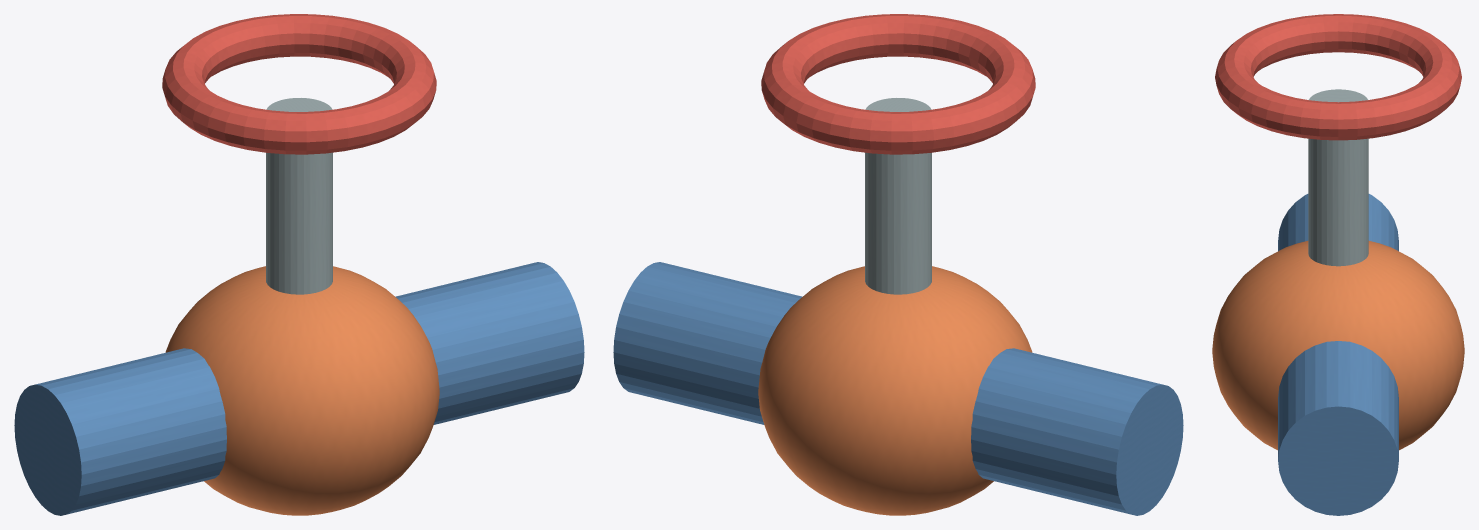
The model's file is valve.glb.
3 renders of one model, left to right at view 1: azimuth 30°, elevation 25°; view 2: azimuth 150°, elevation 25°; view 3: azimuth 270°, elevation 25°, orthographic. The views are drawn at different scales.
Parts seen in each view (by area): view 1: Valve_Body, Valve_Pipe, Valve_Handle, Valve_Stem; view 2: Valve_Body, Valve_Pipe, Valve_Handle, Valve_Stem; view 3: Valve_Body, Valve_Pipe, Valve_Handle, Valve_Stem.
Boxes of the visible parts, <box> form: Valve_Body: <box>165,266,439,515</box>; Valve_Pipe: <box>14,262,584,515</box>; Valve_Handle: <box>162,14,436,154</box>; Valve_Stem: <box>266,98,332,294</box>; Valve_Body: <box>758,266,1032,515</box>; Valve_Pipe: <box>613,262,1183,515</box>; Valve_Handle: <box>761,14,1035,154</box>; Valve_Stem: <box>865,98,931,294</box>; Valve_Body: <box>1212,241,1464,450</box>; Valve_Pipe: <box>1278,194,1398,515</box>; Valve_Handle: <box>1215,14,1461,140</box>; Valve_Stem: <box>1308,89,1368,266</box>.
Bounding box in the file's own units: 0.95 × 0.7874 × 0.46.
4 materials, 4 textured.
